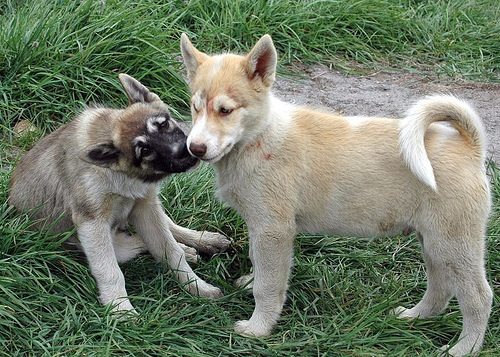dog: (178, 33, 490, 356), (3, 71, 234, 325)
